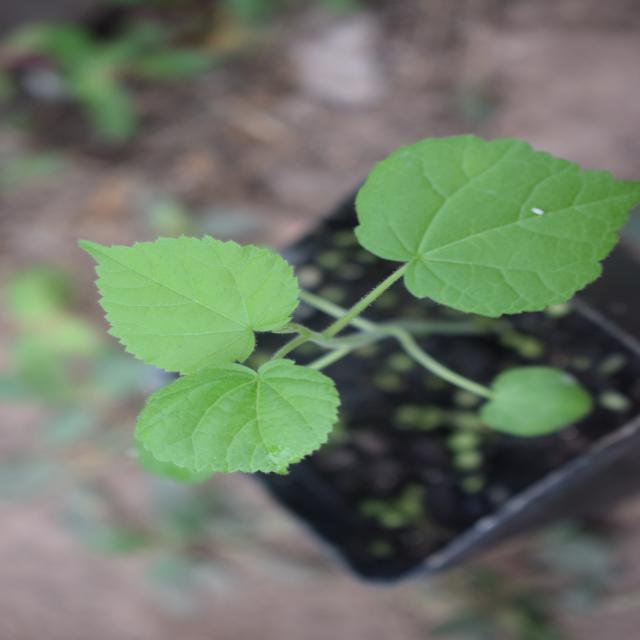abutilon theophrasti: (172, 94, 496, 630)
